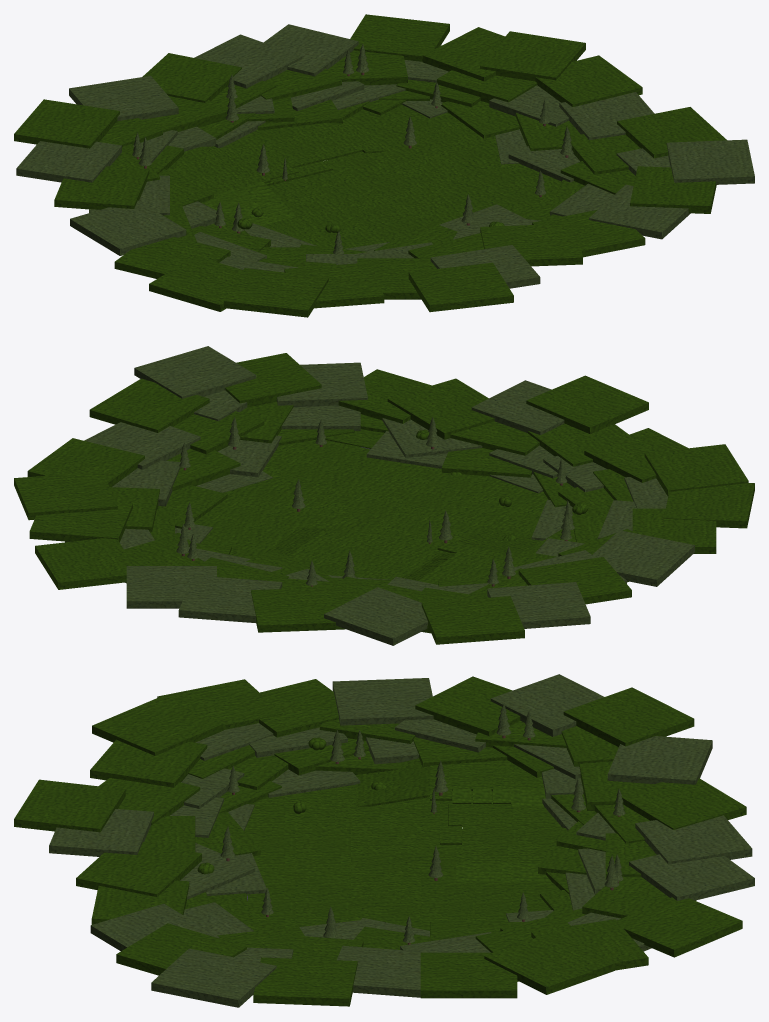
The model's file is escenario.glb.
3 renders of one model, top to bottom at view 1: azimuth 30°, elevation 25°; view 2: azimuth 150°, elevation 25°; view 3: azimuth 270°, elevation 25°, orthographic. The views are drawn at different scales.
Visible parts, largest first — view 1: Shape_RR_Box_0b3a7ef195654598bcc3b067a5fdd3ee.001, Shape_RR_Box_3fddb736df444d41b30edeb848137b71, Shape_RR_Box_a536e3358d2348cbb34448cad1541849, Shape_RR_Box_aaf40b208e444d6ba01e45b56ee13ff4, Shape_RR_Box_ca181fe96d904eada513b7b0074a46ea, Shape_RR_Box_837f52c062f249aaaef8b8c4b41d3eae, Shape_RR_Box_67dcec8ed9e44b94b9c68065e323bac2, Shape_RR_Box_933719c38ebc4f76aeaea169eb4b4e6f, Shape_RR_Box_7a1dc6ea60224756b6baacd6240bbb16, Shape_RR_Box_2c7b16a106c14bf5b7fc9d5eea9291fe, Shape_RR_Box_38937b7586354bd3b5ac582c5449e941, Shape_RR_Box_356343261b36490db34507daae92910f (+75 smaller); view 2: Shape_RR_Box_0b3a7ef195654598bcc3b067a5fdd3ee.001, Shape_RR_Box_837f52c062f249aaaef8b8c4b41d3eae, Shape_RR_Box_3fddb736df444d41b30edeb848137b71, Shape_RR_Box_7a1dc6ea60224756b6baacd6240bbb16, Shape_RR_Box_38937b7586354bd3b5ac582c5449e941, Shape_RR_Box_67dcec8ed9e44b94b9c68065e323bac2, Shape_RR_Box_ca181fe96d904eada513b7b0074a46ea, Shape_RR_Box_f44fa091b6c2487faac09a8715778bb9, Shape_RR_Box_0b3a7ef195654598bcc3b067a5fdd3ee, Shape_RR_Box_056bc62a7ceb4901b09a999c9d598e89, Shape_RR_Box_933719c38ebc4f76aeaea169eb4b4e6f, Shape_RR_Box_a536e3358d2348cbb34448cad1541849 (+71 smaller); view 3: Shape_RR_Box_0b3a7ef195654598bcc3b067a5fdd3ee.001, Shape_RR_Box_ca181fe96d904eada513b7b0074a46ea, Shape_RR_Box_67dcec8ed9e44b94b9c68065e323bac2, Shape_RR_Box_837f52c062f249aaaef8b8c4b41d3eae, Shape_RR_Box_7a1dc6ea60224756b6baacd6240bbb16, Shape_RR_Box_a536e3358d2348cbb34448cad1541849, Shape_RR_Box_3fddb736df444d41b30edeb848137b71, Shape_RR_Box_f44fa091b6c2487faac09a8715778bb9, Shape_RR_Box_933719c38ebc4f76aeaea169eb4b4e6f, Shape_RR_Box_38937b7586354bd3b5ac582c5449e941, Shape_RR_Box_356343261b36490db34507daae92910f, Shape_RR_Box_aaf40b208e444d6ba01e45b56ee13ff4 (+82 smaller).
Part boxes in pixels (<box>): Shape_RR_Box_0b3a7ef195654598bcc3b067a5fdd3ee.001: <box>348,164,557,226</box>; Shape_RR_Box_3fddb736df444d41b30edeb848137b71: <box>408,262,513,312</box>; Shape_RR_Box_a536e3358d2348cbb34448cad1541849: <box>223,268,328,317</box>; Shape_RR_Box_aaf40b208e444d6ba01e45b56ee13ff4: <box>70,200,186,255</box>; Shape_RR_Box_ca181fe96d904eada513b7b0074a46ea: <box>480,31,585,81</box>; Shape_RR_Box_837f52c062f249aaaef8b8c4b41d3eae: <box>14,99,119,148</box>; Shape_RR_Box_67dcec8ed9e44b94b9c68065e323bac2: <box>666,139,754,184</box>; Shape_RR_Box_933719c38ebc4f76aeaea169eb4b4e6f: <box>480,223,582,266</box>; Shape_RR_Box_7a1dc6ea60224756b6baacd6240bbb16: <box>350,14,449,61</box>; Shape_RR_Box_2c7b16a106c14bf5b7fc9d5eea9291fe: <box>16,141,121,182</box>; Shape_RR_Box_38937b7586354bd3b5ac582c5449e941: <box>69,75,178,120</box>; Shape_RR_Box_356343261b36490db34507daae92910f: <box>535,55,642,106</box>; Shape_RR_Box_0b3a7ef195654598bcc3b067a5fdd3ee.001: <box>263,448,473,514</box>; Shape_RR_Box_837f52c062f249aaaef8b8c4b41d3eae: <box>421,596,524,644</box>; Shape_RR_Box_3fddb736df444d41b30edeb848137b71: <box>526,375,648,433</box>; Shape_RR_Box_7a1dc6ea60224756b6baacd6240bbb16: <box>35,538,133,589</box>; Shape_RR_Box_38937b7586354bd3b5ac582c5449e941: <box>324,587,427,645</box>; Shape_RR_Box_67dcec8ed9e44b94b9c68065e323bac2: <box>134,346,256,398</box>; Shape_RR_Box_ca181fe96d904eada513b7b0074a46ea: <box>14,471,117,520</box>; Shape_RR_Box_f44fa091b6c2487faac09a8715778bb9: <box>89,378,209,432</box>; Shape_RR_Box_0b3a7ef195654598bcc3b067a5fdd3ee: <box>277,439,496,496</box>; Shape_RR_Box_056bc62a7ceb4901b09a999c9d598e89: <box>251,587,345,632</box>; Shape_RR_Box_933719c38ebc4f76aeaea169eb4b4e6f: <box>387,378,494,439</box>; Shape_RR_Box_a536e3358d2348cbb34448cad1541849: <box>644,444,748,496</box>; Shape_RR_Box_0b3a7ef195654598bcc3b067a5fdd3ee.001: <box>295,830,350,926</box>; Shape_RR_Box_ca181fe96d904eada513b7b0074a46ea: <box>484,931,614,994</box>; Shape_RR_Box_67dcec8ed9e44b94b9c68065e323bac2: <box>151,948,276,1007</box>; Shape_RR_Box_837f52c062f249aaaef8b8c4b41d3eae: <box>563,687,694,747</box>; Shape_RR_Box_7a1dc6ea60224756b6baacd6240bbb16: <box>617,897,742,957</box>; Shape_RR_Box_a536e3358d2348cbb34448cad1541849: <box>92,697,223,755</box>; Shape_RR_Box_3fddb736df444d41b30edeb848137b71: <box>14,779,125,832</box>; Shape_RR_Box_f44fa091b6c2487faac09a8715778bb9: <box>253,957,357,1006</box>; Shape_RR_Box_933719c38ebc4f76aeaea169eb4b4e6f: <box>76,842,201,896</box>; Shape_RR_Box_38937b7586354bd3b5ac582c5449e941: <box>607,736,712,784</box>; Shape_RR_Box_356343261b36490db34507daae92910f: <box>420,952,517,998</box>; Shape_RR_Box_aaf40b208e444d6ba01e45b56ee13ff4: <box>332,678,433,725</box>.
Size of the model in its own units: 126 by 12.41 by 122.
20 materials, 20 textured.
